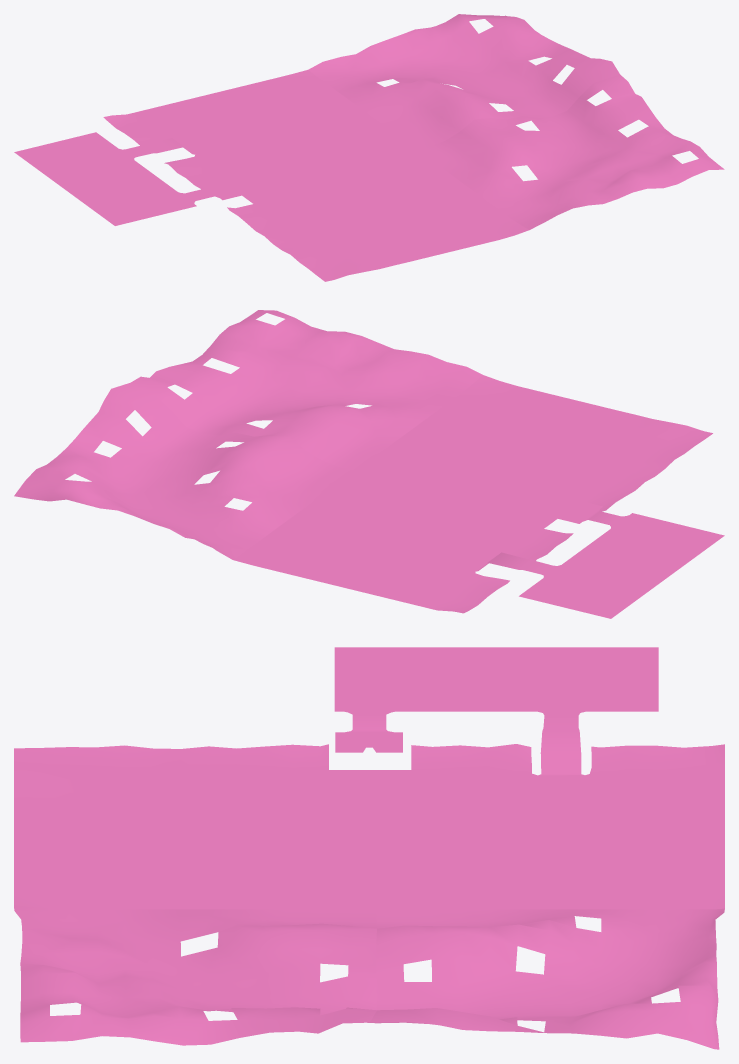
Rendered from navmesh.glb.
3 views of the same model, one above another, from view 1: azimuth 30°, elevation 25°; view 2: azimuth 150°, elevation 25°; view 3: azimuth 270°, elevation 25° (orthographic). The views are drawn at different scales.
Visible parts, largest first — view 1: NewNavMesh; view 2: NewNavMesh; view 3: NewNavMesh.
Boxes of the visible parts, x1,y1,x2,y2 form: NewNavMesh: (14, 14, 724, 281); NewNavMesh: (14, 310, 724, 618); NewNavMesh: (14, 647, 724, 1049).
Bounding box in the file's own units: 109 × 6.04 × 80.03.
